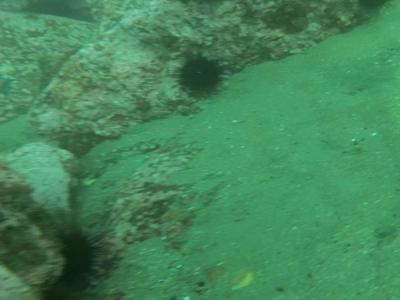urchin: (57, 233, 107, 285), (176, 53, 224, 99)
